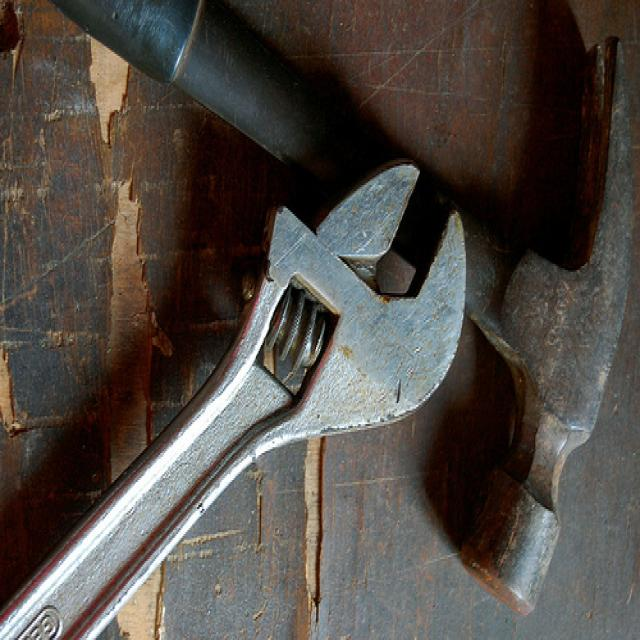wrench: (18, 164, 471, 640)
